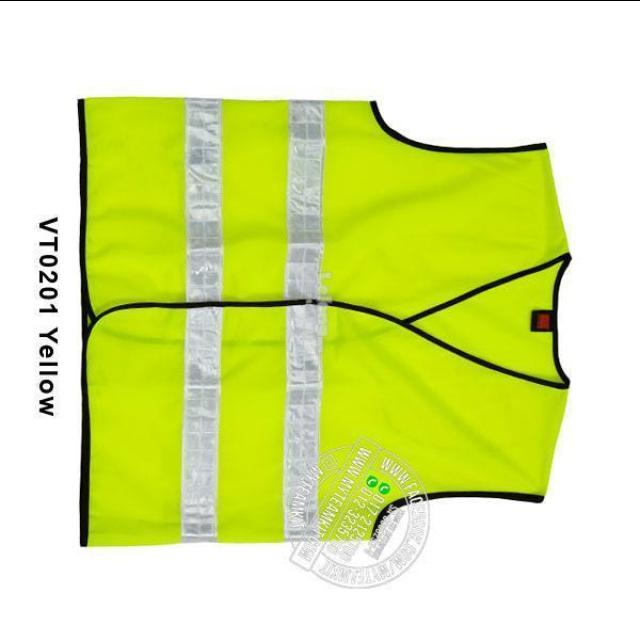jacket: (72, 78, 586, 554)
